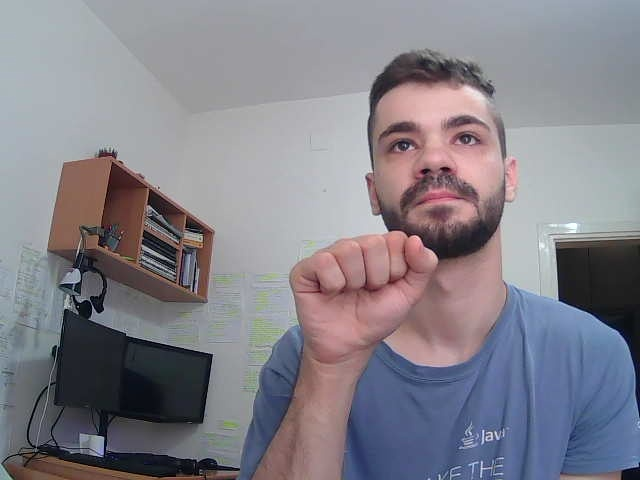a: (269, 220, 452, 356)
